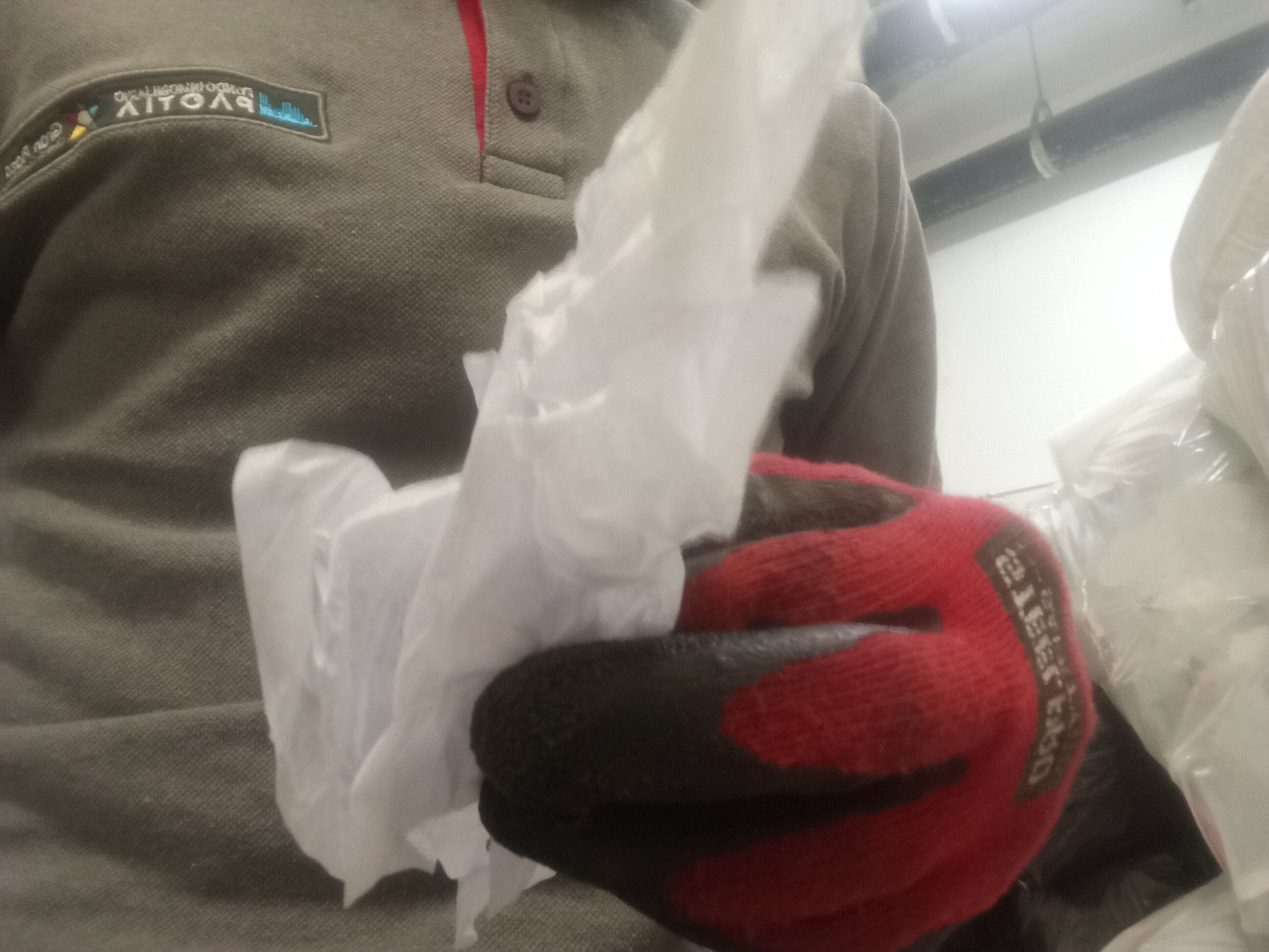Papel: (232, 0, 867, 948)
